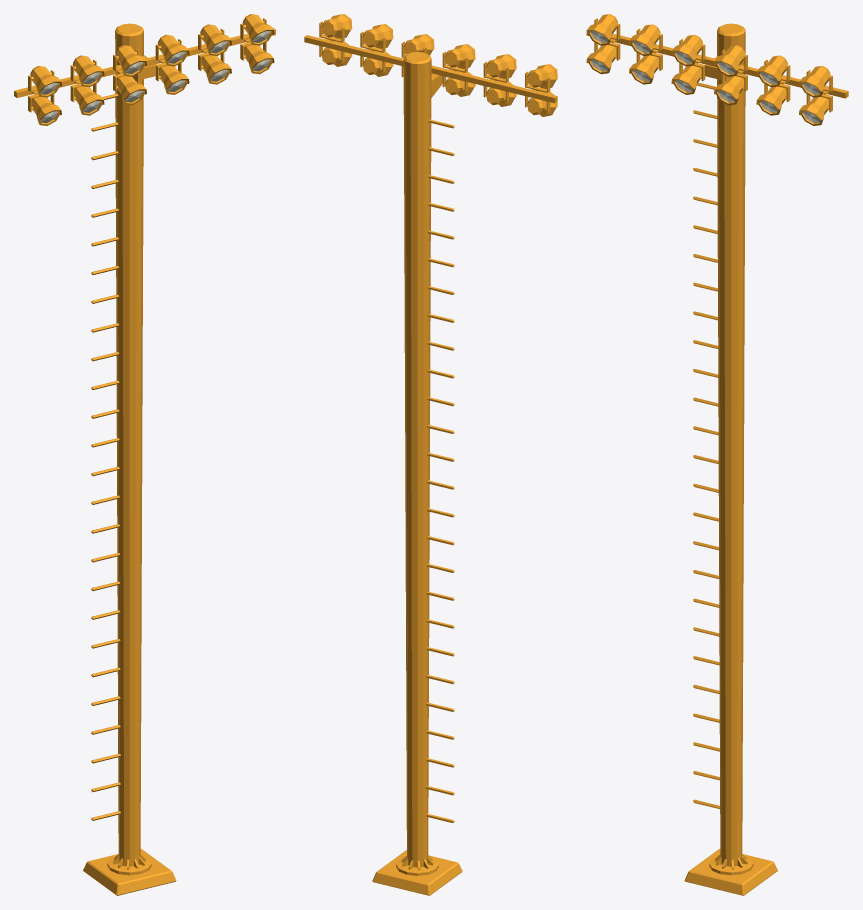
The model's file is SM_Reflector_Racetrack_15m.fbx.
The picture shows the model from 3 angles, left to right: view 1: azimuth 30°, elevation 25°; view 2: azimuth 150°, elevation 25°; view 3: azimuth 330°, elevation 25°; orthographic projection. The views are drawn at different scales.
Visible parts, largest first — view 1: SM_Reflector_Racetrack_15m; view 2: SM_Reflector_Racetrack_15m; view 3: SM_Reflector_Racetrack_15m.
Boxes of the visible parts, x1,y1,x2,y2 form: SM_Reflector_Racetrack_15m: [14, 14, 275, 895]; SM_Reflector_Racetrack_15m: [304, 14, 557, 895]; SM_Reflector_Racetrack_15m: [586, 14, 848, 895].
Size of the model in its own units: 4.8 by 15.01 by 1.55.
